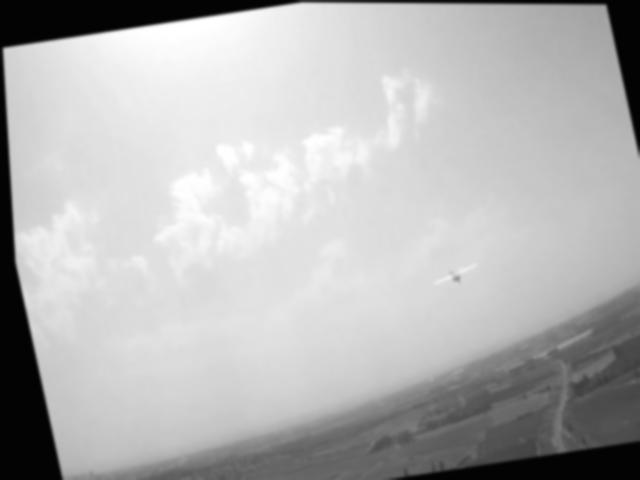hedef: (416, 253, 485, 297)
